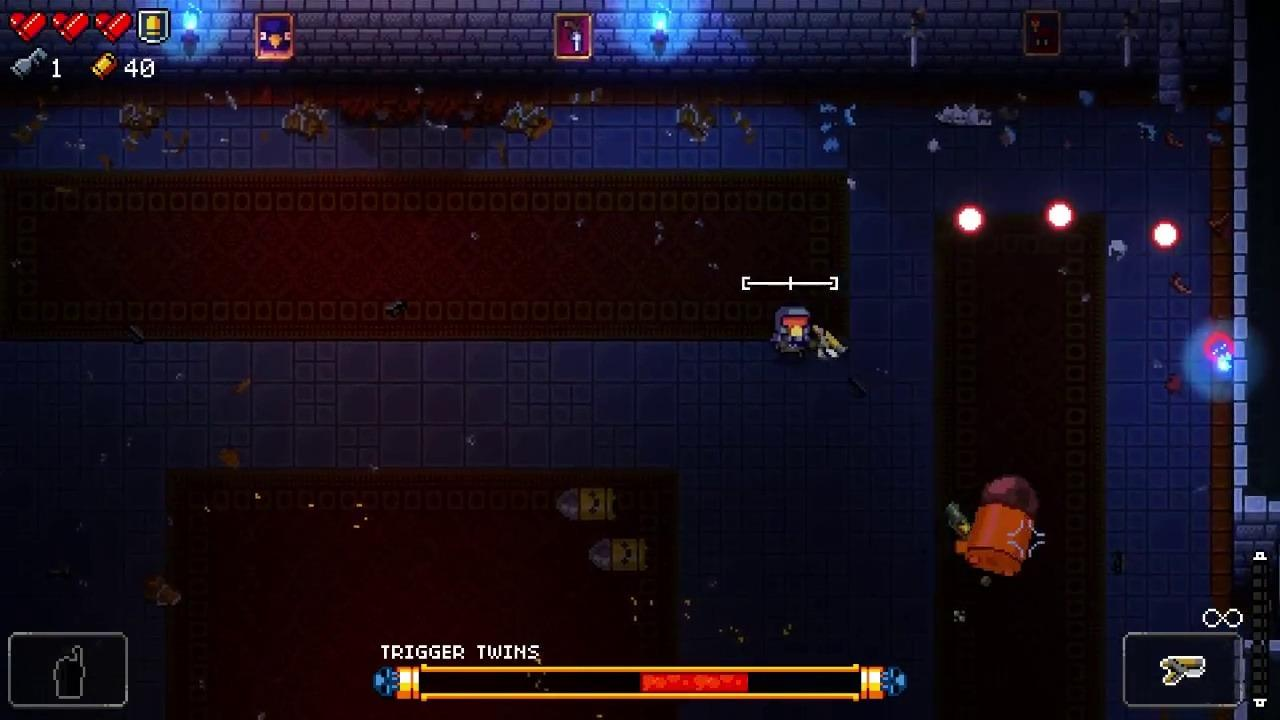boss_smiley: (966, 474, 1040, 579)
bullet: (954, 205, 986, 235), (1048, 202, 1077, 234), (1151, 222, 1180, 251)
dead_bullet_kin: (587, 538, 647, 573), (557, 490, 616, 524)
player: (771, 308, 812, 361)
